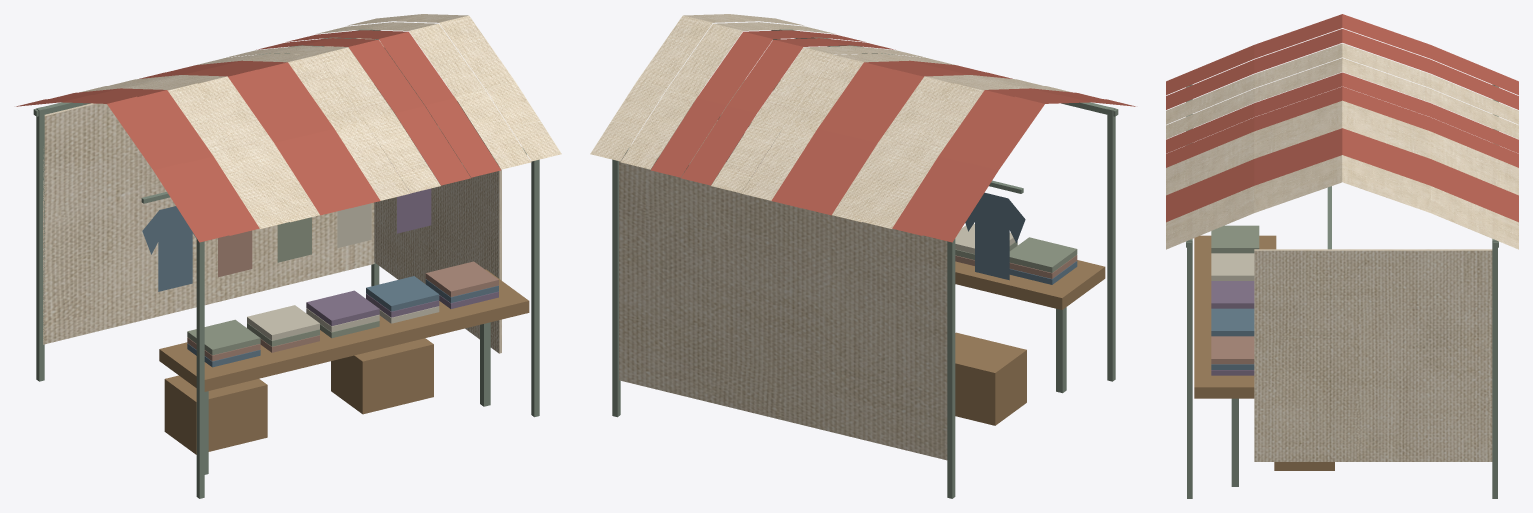
The model's file is stall_red.glb.
The picture shows the model from 3 angles, left to right: view 1: azimuth 30°, elevation 25°; view 2: azimuth 150°, elevation 25°; view 3: azimuth 270°, elevation 25°; orthographic projection. The views are drawn at different scales.
Visible parts, largest first — view 1: stall_red; view 2: stall_red; view 3: stall_red.
Boxes of the visible parts, <box> form: stall_red: <box>16,14,561,498</box>; stall_red: <box>590,14,1135,498</box>; stall_red: <box>1166,14,1518,498</box>.
Size of the model in its own units: 3.16 by 2.82 by 2.8.
Materials: 9 (1 with a texture image).
